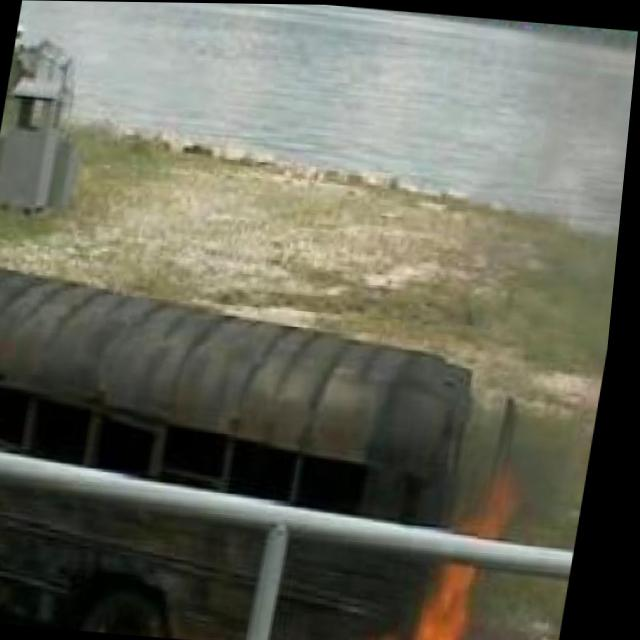Fire: (367, 483, 527, 640)
